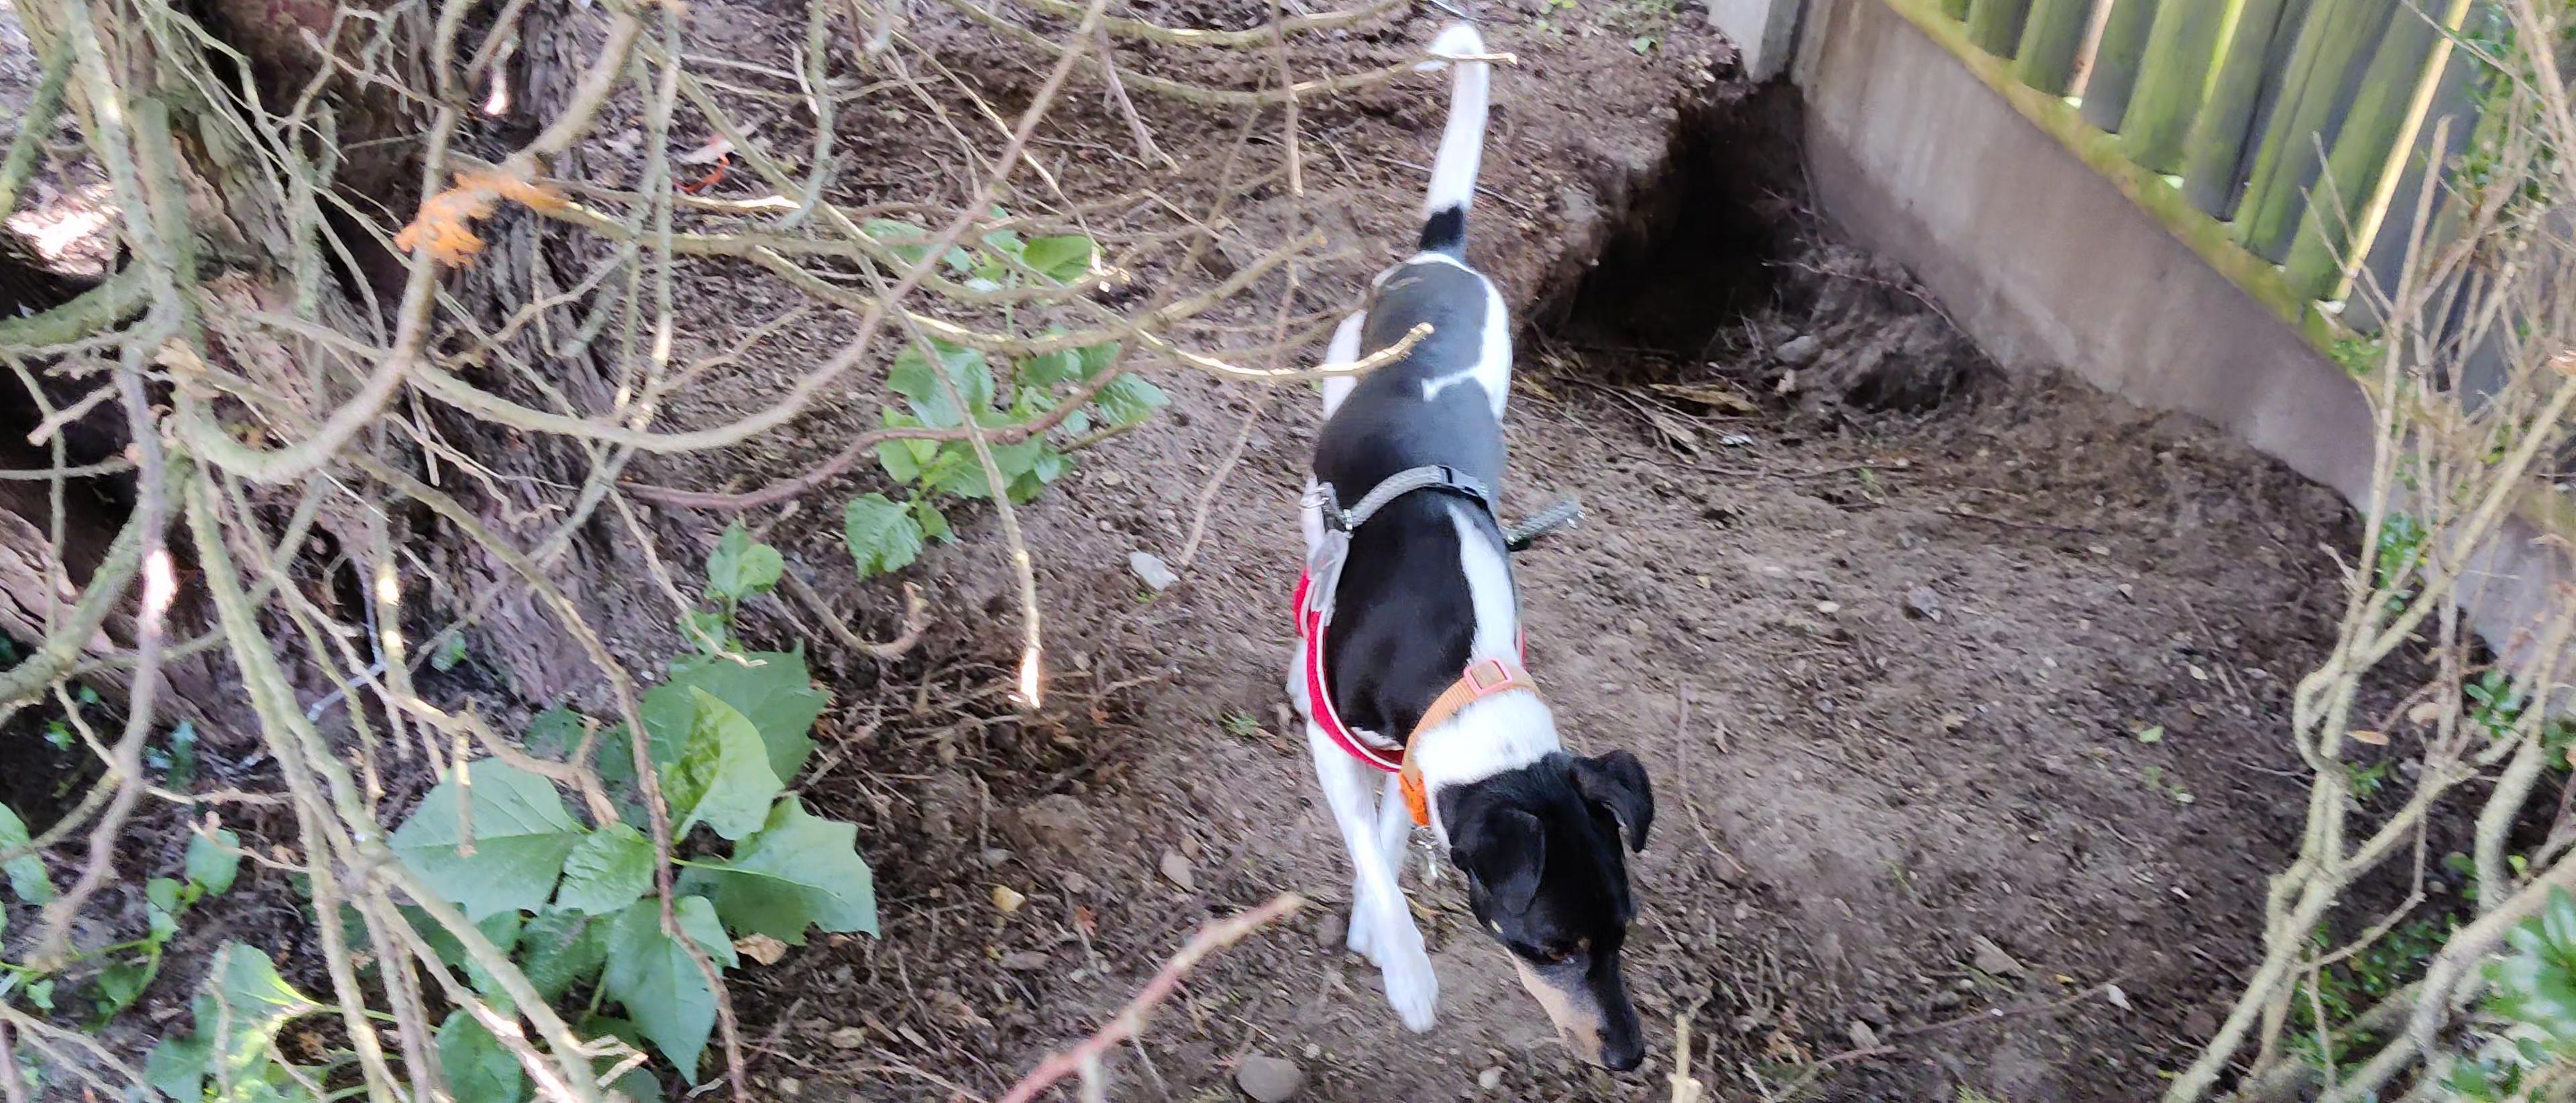Dog: (1253, 13, 1684, 1080)
